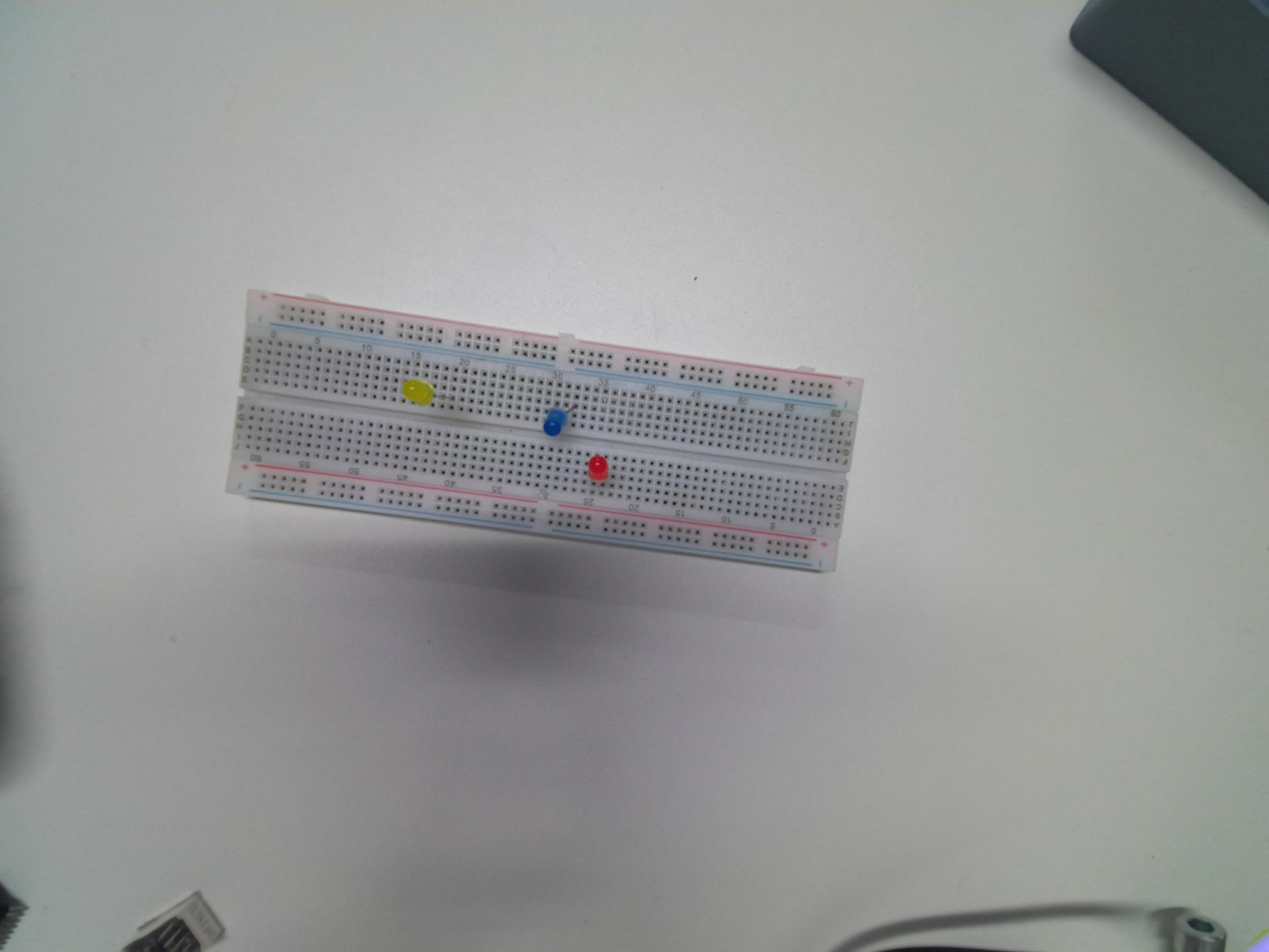base: (223, 288, 868, 578)
blue-led: (543, 409, 566, 436)
red-led: (587, 454, 609, 479)
yellow-led: (403, 379, 435, 405)
